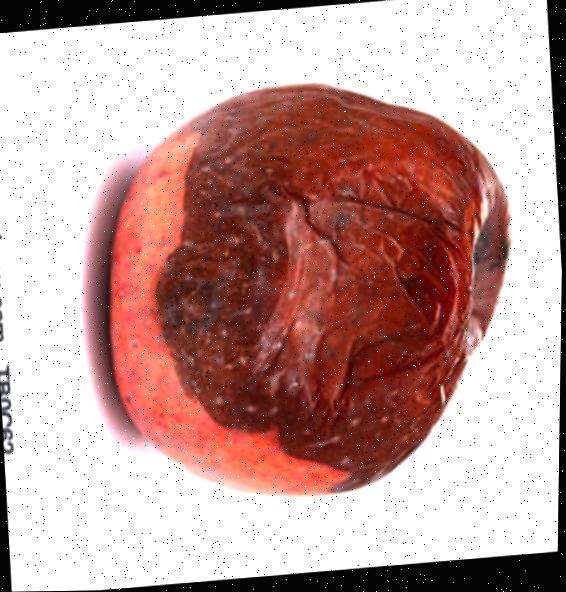ROT: (28, 54, 527, 508)
